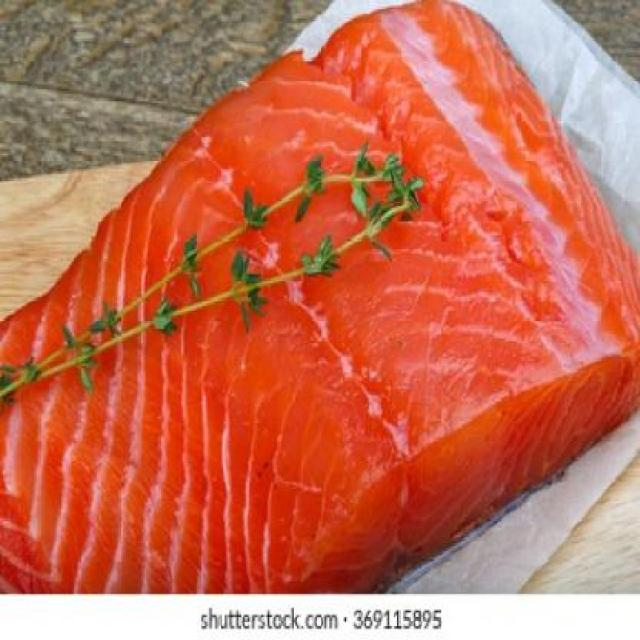salmon: (3, 2, 636, 596)
